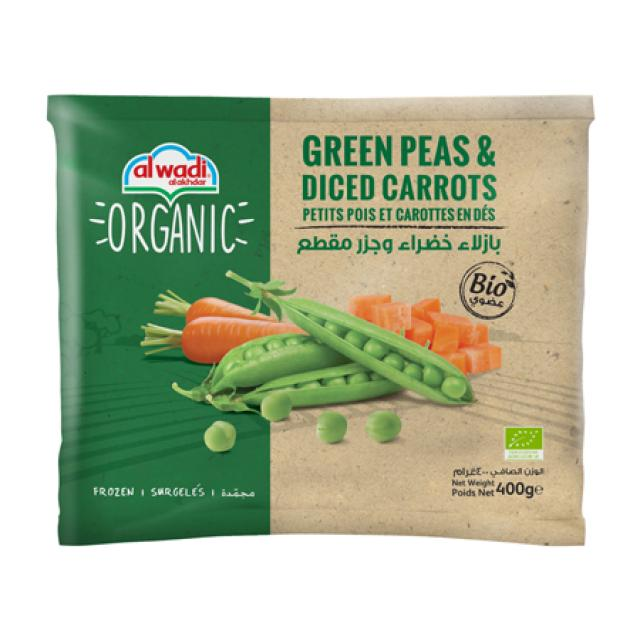pea: (220, 264, 478, 406), (314, 410, 357, 444), (202, 416, 235, 456), (369, 413, 405, 446)
